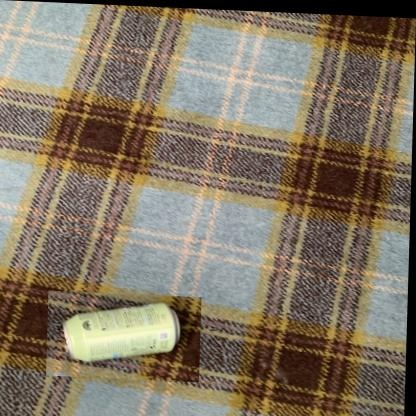trash: (63, 303, 179, 361)
